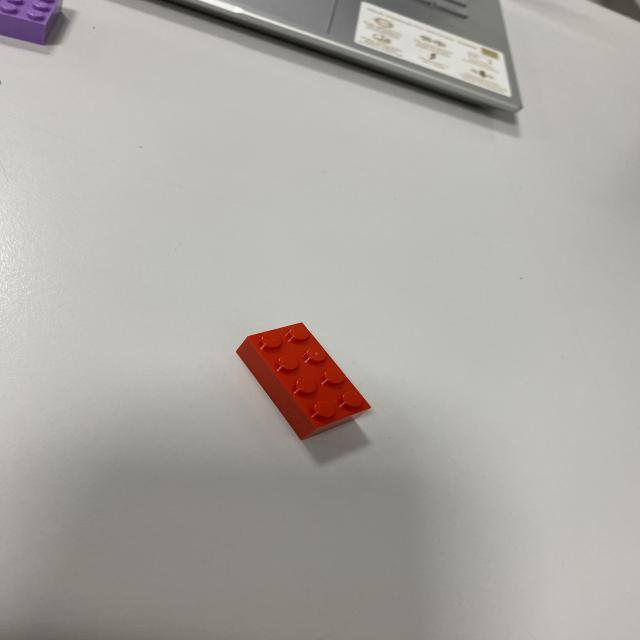C4x2x1: (237, 320, 376, 438)
